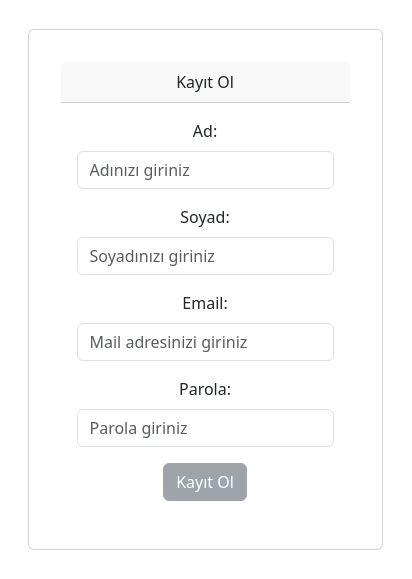
Test: Register Page › Error Messages › Last name input throws error for 2 chars
Type "to" into the field with test id "lastName-input".
click(206, 256); type("to")  # box top-left (77, 237), bottom-right (334, 275)
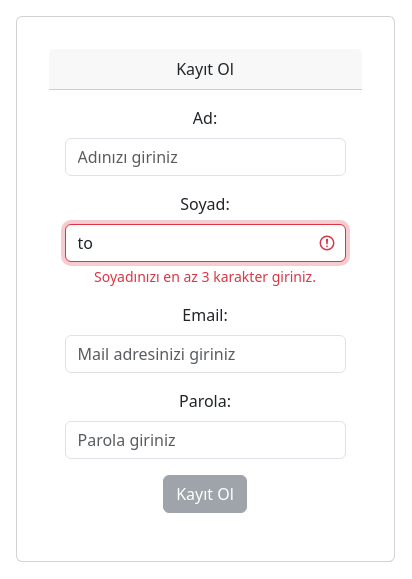
Expected: the text "Soyadınızı en az 3 karakter giriniz." is shown, top-left (94, 267), bottom-right (316, 286)
